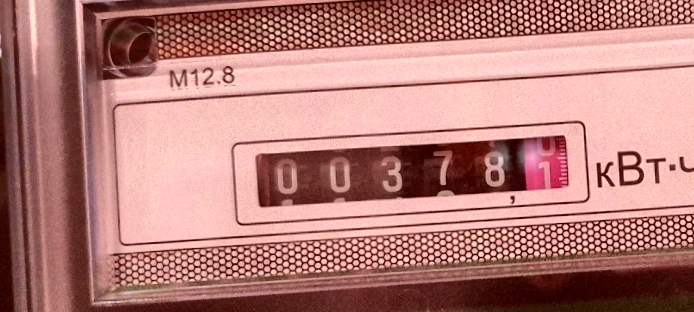0: (273, 154, 301, 195), (326, 153, 352, 193), (534, 134, 557, 156)
1: (534, 157, 554, 189)
3: (377, 152, 404, 193)
7: (430, 146, 454, 186)
8: (481, 147, 506, 188)
screen: (234, 116, 588, 217)
